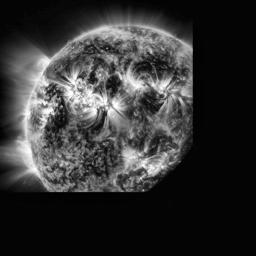solar flares: (65, 80, 87, 106), (89, 95, 116, 116), (117, 71, 139, 95), (124, 148, 144, 170), (155, 82, 172, 104), (39, 105, 49, 132)
sunspots: (137, 60, 175, 74), (83, 114, 100, 145), (85, 153, 108, 172), (50, 111, 63, 142), (134, 90, 156, 108), (148, 131, 168, 150), (53, 59, 73, 76), (108, 76, 120, 98), (97, 41, 116, 53), (89, 58, 97, 86)
